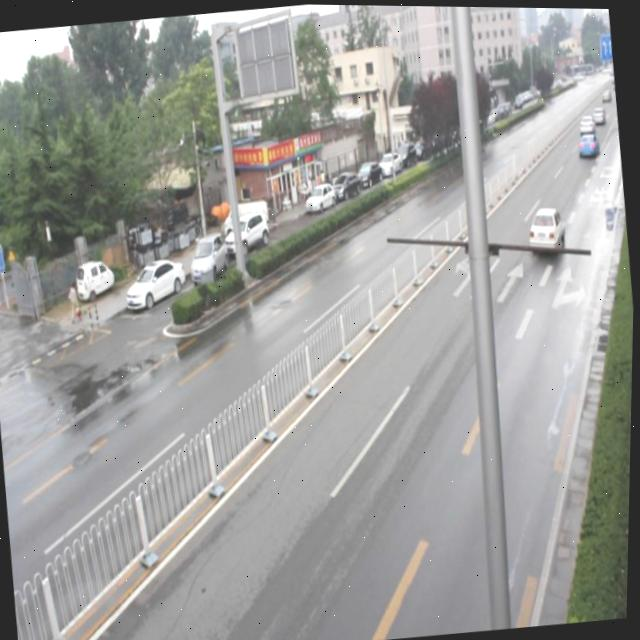car: (526, 205, 567, 255)
